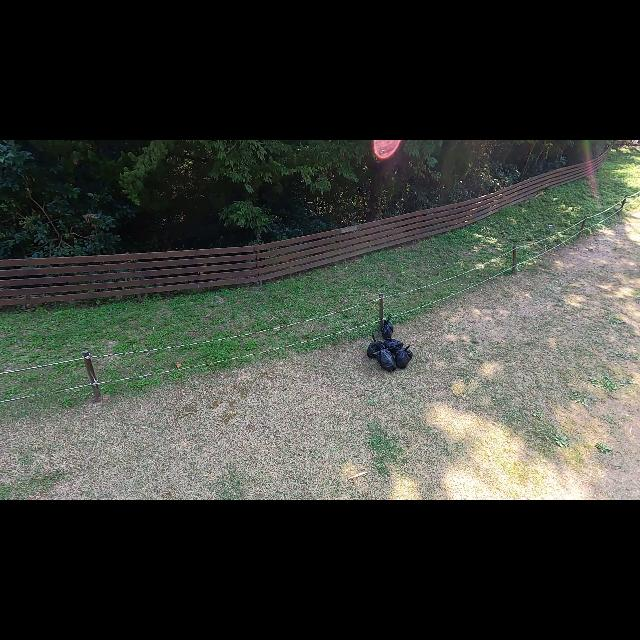trash: (373, 346, 397, 372), (391, 343, 413, 369), (381, 333, 404, 352), (378, 314, 394, 341), (366, 333, 384, 357)
